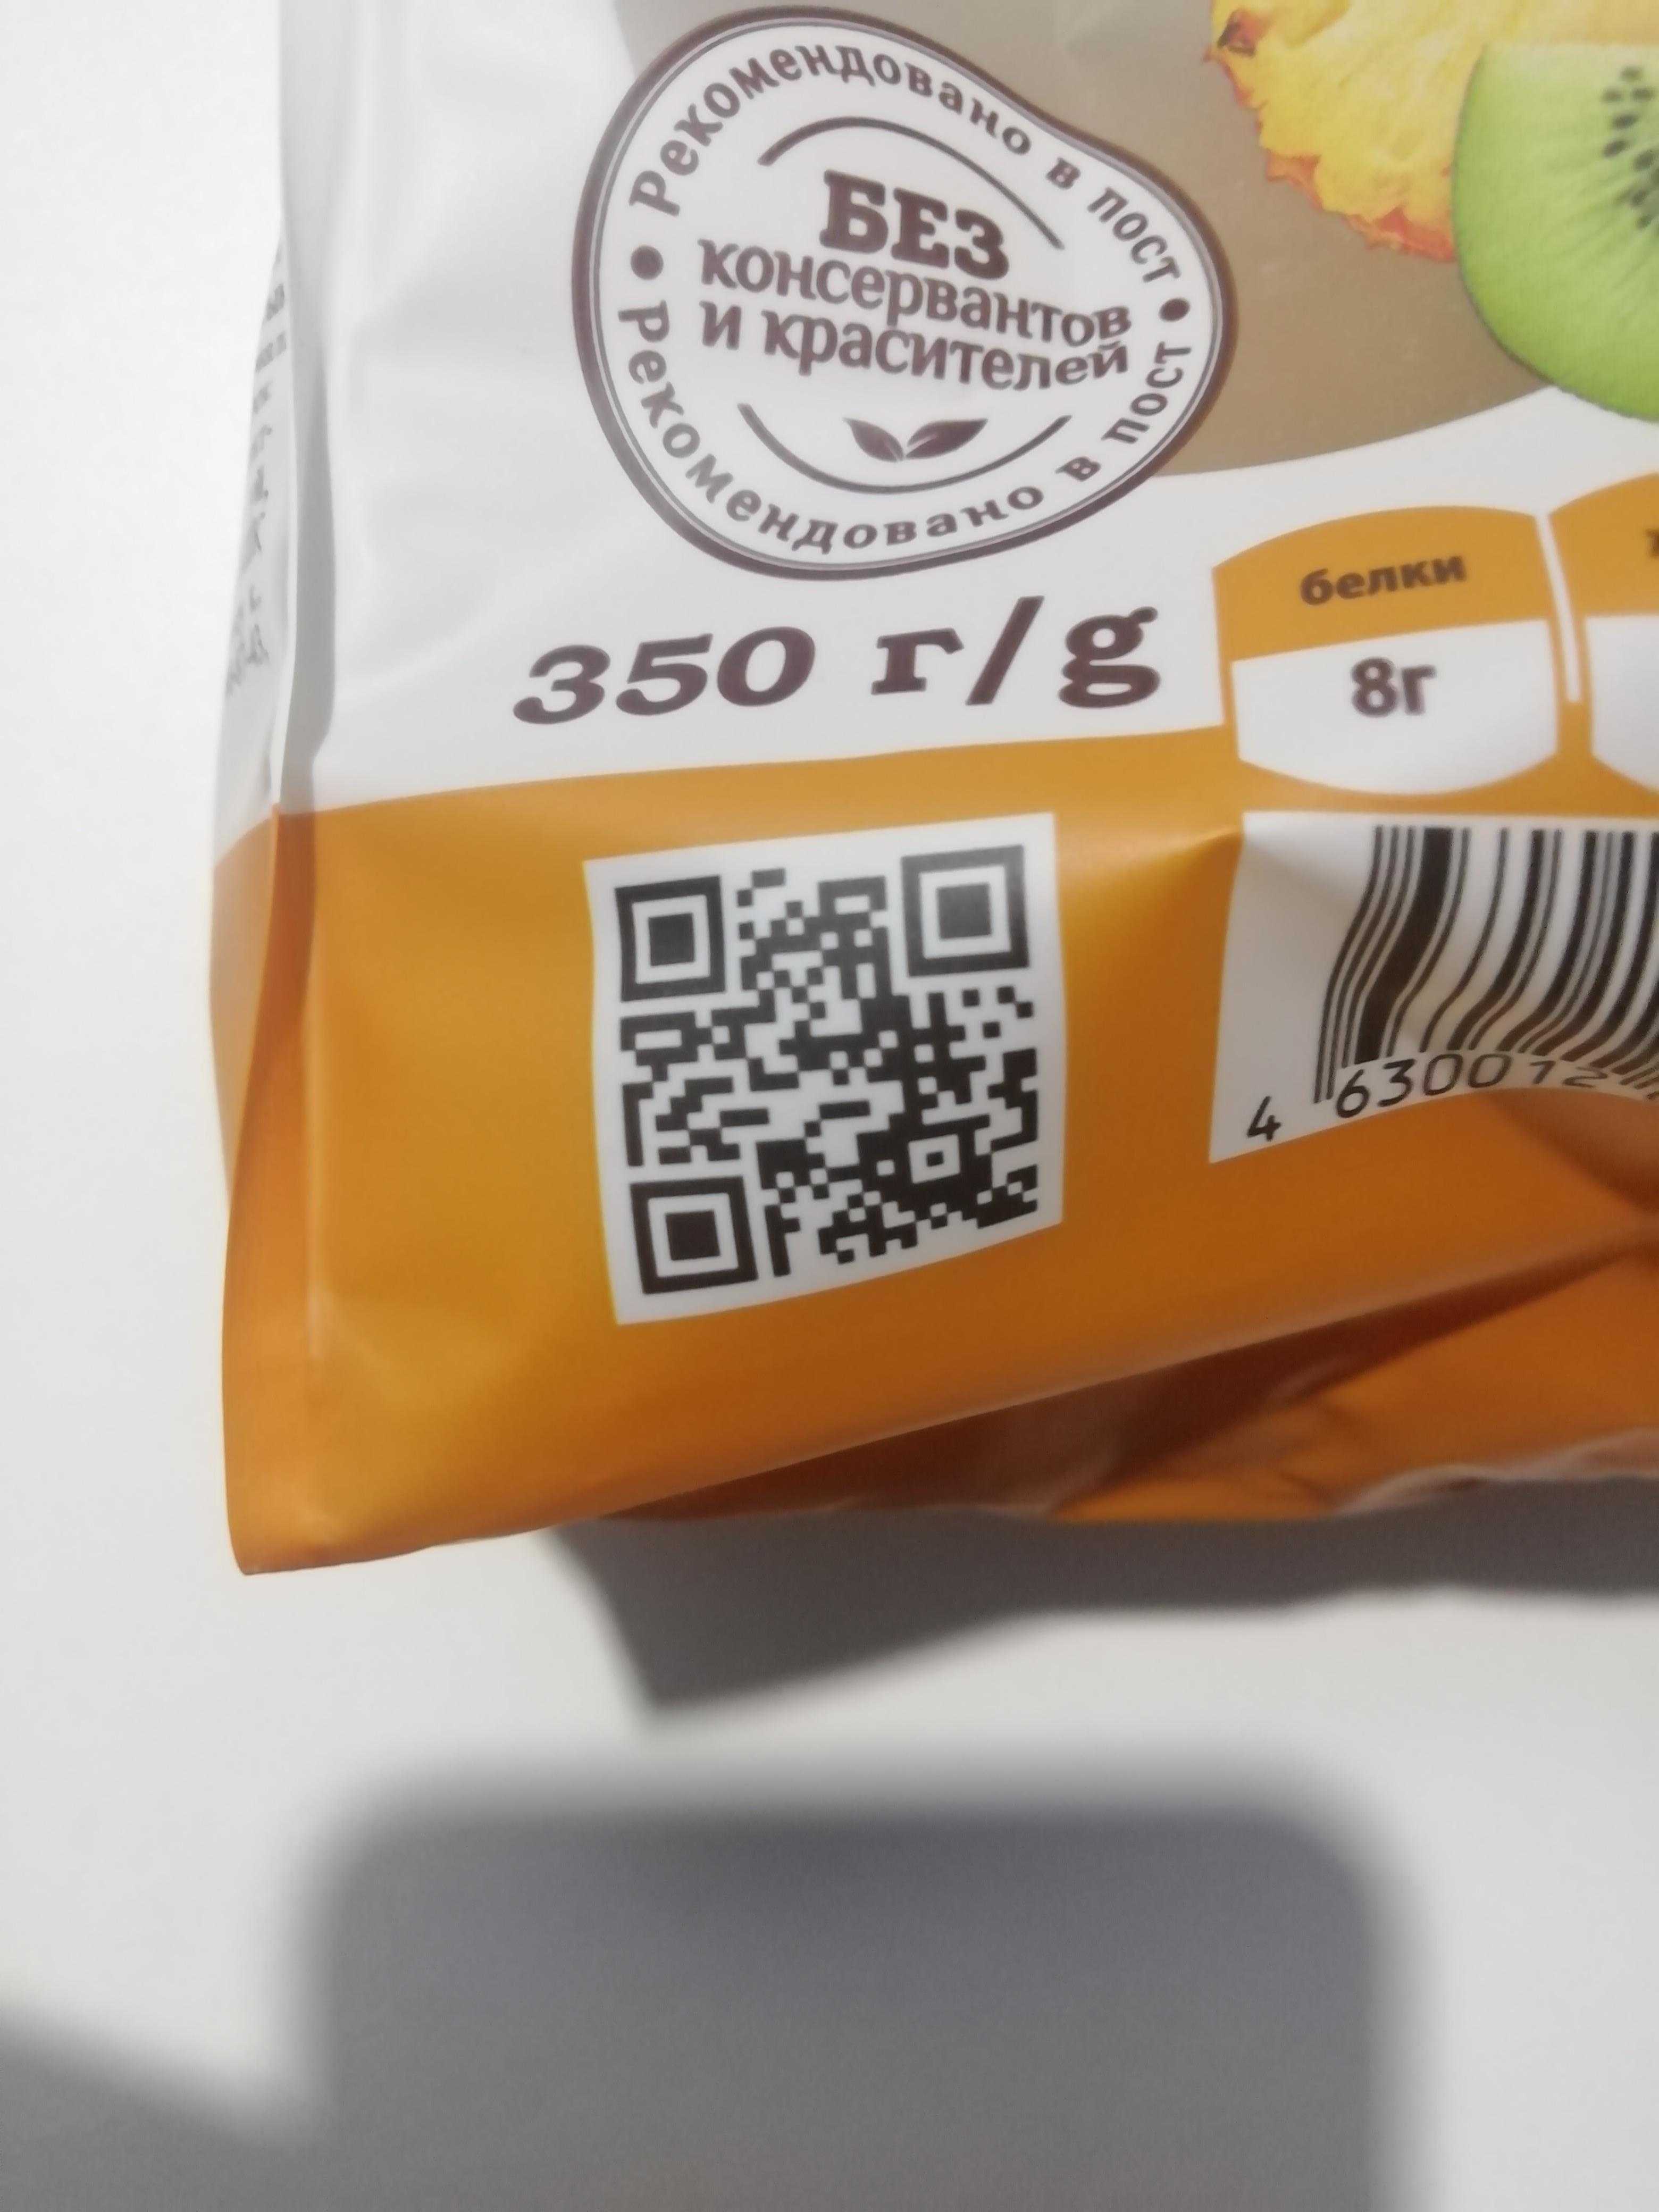qrcode: (612, 843, 1042, 1301)
